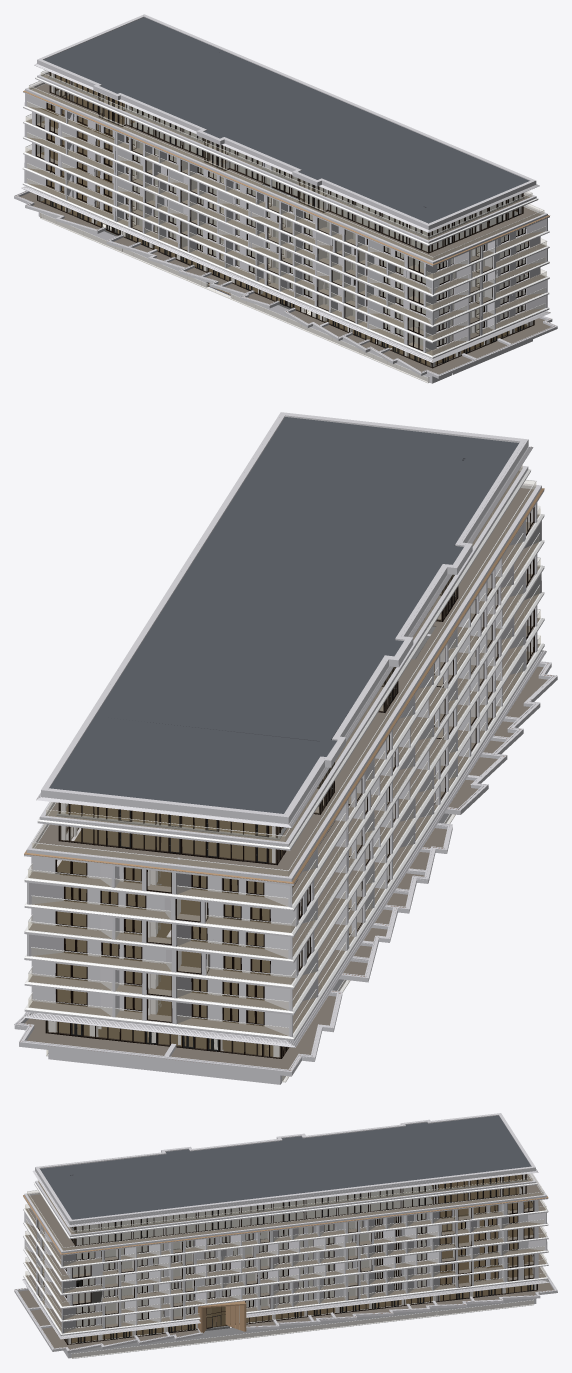
File: prime_resd1_Import3DFiles.glb
3 views of the same model, one above another, from view 1: azimuth 30°, elevation 25°; view 2: azimuth 150°, elevation 25°; view 3: azimuth 270°, elevation 25° (orthographic). The views are drawn at different scales.
Parts seen in each view (by area): view 1: mesh_material_from_multipatch_10, mesh_material_from_multipatch_19, mesh_material_from_multipatch_5, mesh_material_from_multipatch_3, mesh_material_from_multipatch_13, mesh_material_from_multipatch_15, mesh_material_from_multipatch_22, mesh_material_from_multipatch_2, mesh_material_from_multipatch_18, mesh_material_from_multipatch_16, mesh_material_from_multipatch_1; view 2: mesh_material_from_multipatch_19, mesh_material_from_multipatch_10, mesh_material_from_multipatch_5, mesh_material_from_multipatch_3, mesh_material_from_multipatch_13, mesh_material_from_multipatch_2, mesh_material_from_multipatch_15, mesh_material_from_multipatch_18, mesh_material_from_multipatch_22; view 3: mesh_material_from_multipatch_10, mesh_material_from_multipatch_5, mesh_material_from_multipatch_19, mesh_material_from_multipatch_3, mesh_material_from_multipatch_13, mesh_material_from_multipatch_22, mesh_material_from_multipatch_15, mesh_material_from_multipatch_2, mesh_material_from_multipatch_18, mesh_material_from_multipatch_17, mesh_material_from_multipatch_16, mesh_material_from_multipatch_1.
Part boxes in pixels (<box>): mesh_material_from_multipatch_10: <box>14,14,557,383</box>; mesh_material_from_multipatch_19: <box>43,17,529,223</box>; mesh_material_from_multipatch_5: <box>25,71,546,382</box>; mesh_material_from_multipatch_3: <box>20,73,550,374</box>; mesh_material_from_multipatch_13: <box>22,70,549,383</box>; mesh_material_from_multipatch_15: <box>36,72,534,368</box>; mesh_material_from_multipatch_22: <box>48,76,527,365</box>; mesh_material_from_multipatch_2: <box>39,75,527,365</box>; mesh_material_from_multipatch_18: <box>23,90,549,265</box>; mesh_material_from_multipatch_16: <box>56,88,518,249</box>; mesh_material_from_multipatch_1: <box>50,201,523,363</box>; mesh_material_from_multipatch_19: <box>49,417,518,813</box>; mesh_material_from_multipatch_10: <box>14,412,557,1084</box>; mesh_material_from_multipatch_5: <box>28,465,540,1081</box>; mesh_material_from_multipatch_3: <box>24,470,547,1069</box>; mesh_material_from_multipatch_13: <box>24,469,544,1082</box>; mesh_material_from_multipatch_2: <box>55,804,334,1056</box>; mesh_material_from_multipatch_15: <box>45,507,534,1058</box>; mesh_material_from_multipatch_18: <box>24,488,544,883</box>; mesh_material_from_multipatch_22: <box>55,626,435,1052</box>; mesh_material_from_multipatch_10: <box>14,1113,557,1358</box>; mesh_material_from_multipatch_5: <box>25,1174,546,1357</box>; mesh_material_from_multipatch_19: <box>40,1115,531,1219</box>; mesh_material_from_multipatch_3: <box>18,1174,553,1349</box>; mesh_material_from_multipatch_13: <box>23,1173,548,1358</box>; mesh_material_from_multipatch_22: <box>66,1179,532,1334</box>; mesh_material_from_multipatch_15: <box>37,1174,537,1344</box>; mesh_material_from_multipatch_2: <box>71,1175,533,1343</box>; mesh_material_from_multipatch_18: <box>23,1195,548,1254</box>; mesh_material_from_multipatch_17: <box>198,1301,246,1333</box>; mesh_material_from_multipatch_16: <box>72,1176,509,1242</box>; mesh_material_from_multipatch_1: <box>78,1284,533,1343</box>.
Size of the model in its own units: 71.81 by 39.14 by 138.
